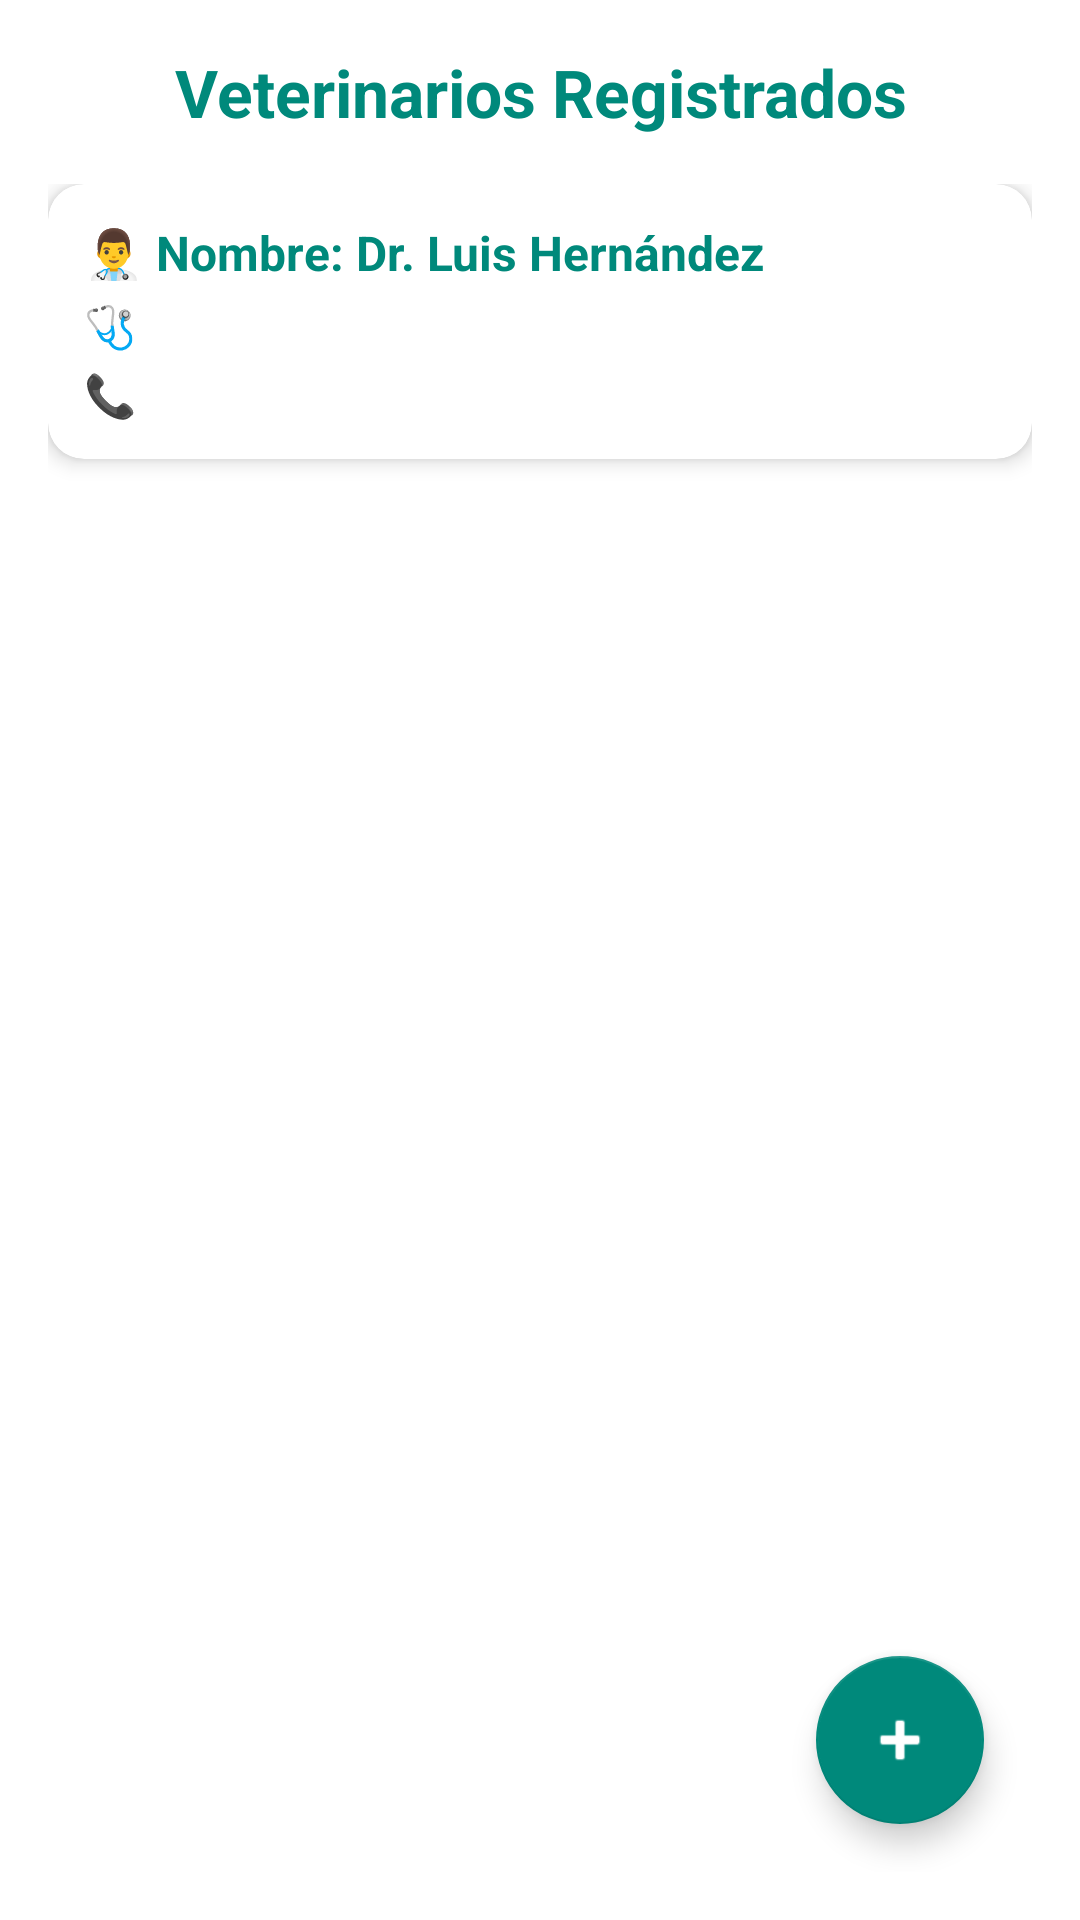

Where icons sit on this 1080x1920 app screen, as (x1, y1, x2, y2):
Agregar nuevo veterinario: (816, 1656, 984, 1824)
